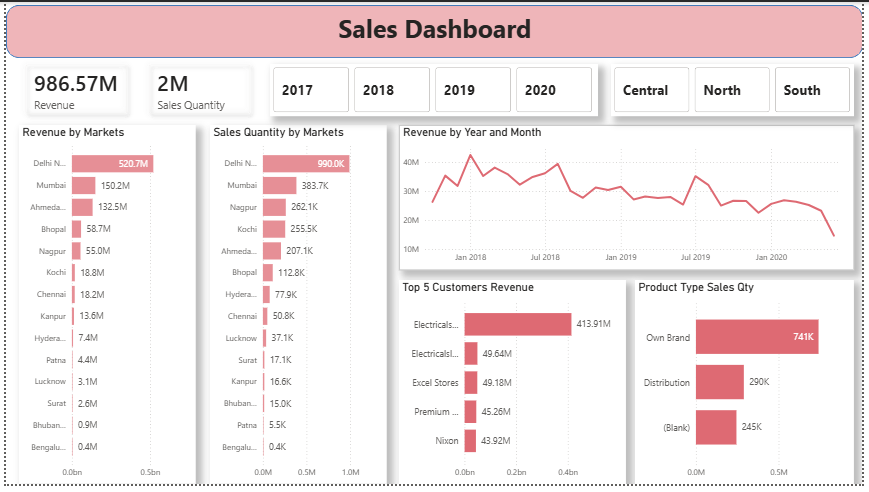

Layout of this report page (visuals, bound fields, positions):
{"tool":"powerbi","page":{"name":"Page 1","canvas":[1280,720],"ordinal":0},"visuals":[{"type":"cardVisual","fields":{"Data":["BaseMeasures.Revenue","BaseMeasures.Sales Quantity"]},"box":[0,64.2,394.4,132.9],"z":1000},{"type":"clusteredBarChart","title":"Revenue by Markets","fields":{"Y":["BaseMeasures.Revenue"],"Category":["public markets.markets_name"]},"box":[19.4,183.7,264.4,536.3],"z":2000},{"type":"clusteredBarChart","title":"Sales Quantity by Markets","fields":{"Y":["BaseMeasures.Sales Quantity"],"Category":["public markets.markets_name"]},"box":[304.7,183.7,264.4,536.3],"z":3000},{"type":"advancedSlicerVisual","fields":{"Values":["public date.year"]},"box":[394.4,92.6,490,77.7],"z":4000},{"type":"lineChart","fields":{"Y":["BaseMeasures.Revenue"],"Category":["public date.date.Variation.Date Hierarchy.Year","public date.date.Variation.Date Hierarchy.Month"]},"box":[587.1,183.7,679.7,216.6],"z":5000},{"type":"clusteredBarChart","title":"Top 5 Customers Revenue","fields":{"Y":["BaseMeasures.Revenue"],"Category":["public customers.custmer_name"]},"box":[587.1,415.3,339.1,304.7],"z":6000},{"type":"clusteredBarChart","title":" Product Type Sales Qty","fields":{"Y":["BaseMeasures.Sales Quantity"],"Category":["public products.product_type"]},"box":[939.6,415.3,327.1,304.7],"z":7000},{"type":"advancedSlicerVisual","fields":{"Values":["public markets.zone"]},"box":[903.7,92.6,363,77.7],"z":8000},{"type":"shape","box":[0,4.5,1280.2,79.2],"z":8750},{"type":"textbox","box":[491.5,9,366,83.7],"z":9500}]}

Visuals, with their boxes in screenshot pixels (x1, y1, x2, y2), scaled from the page's 1280x720 canvas onto the 869x492 screenshot:
cardVisual - BaseMeasures.Revenue x BaseMeasures.Sales Quantity: (0,44,268,135)
"Revenue by Markets" clusteredBarChart: (13,126,193,491)
"Sales Quantity by Markets" clusteredBarChart: (207,126,386,491)
advancedSlicerVisual - public date.year: (268,63,600,116)
lineChart - BaseMeasures.Revenue x public date.date.Variation.Date Hierarchy.Year: (399,126,860,274)
"Top 5 Customers Revenue" clusteredBarChart: (399,284,629,491)
" Product Type Sales Qty" clusteredBarChart: (638,284,860,491)
advancedSlicerVisual - public markets.zone: (614,63,860,116)
shape: (0,3,868,57)
textbox: (334,6,582,63)
